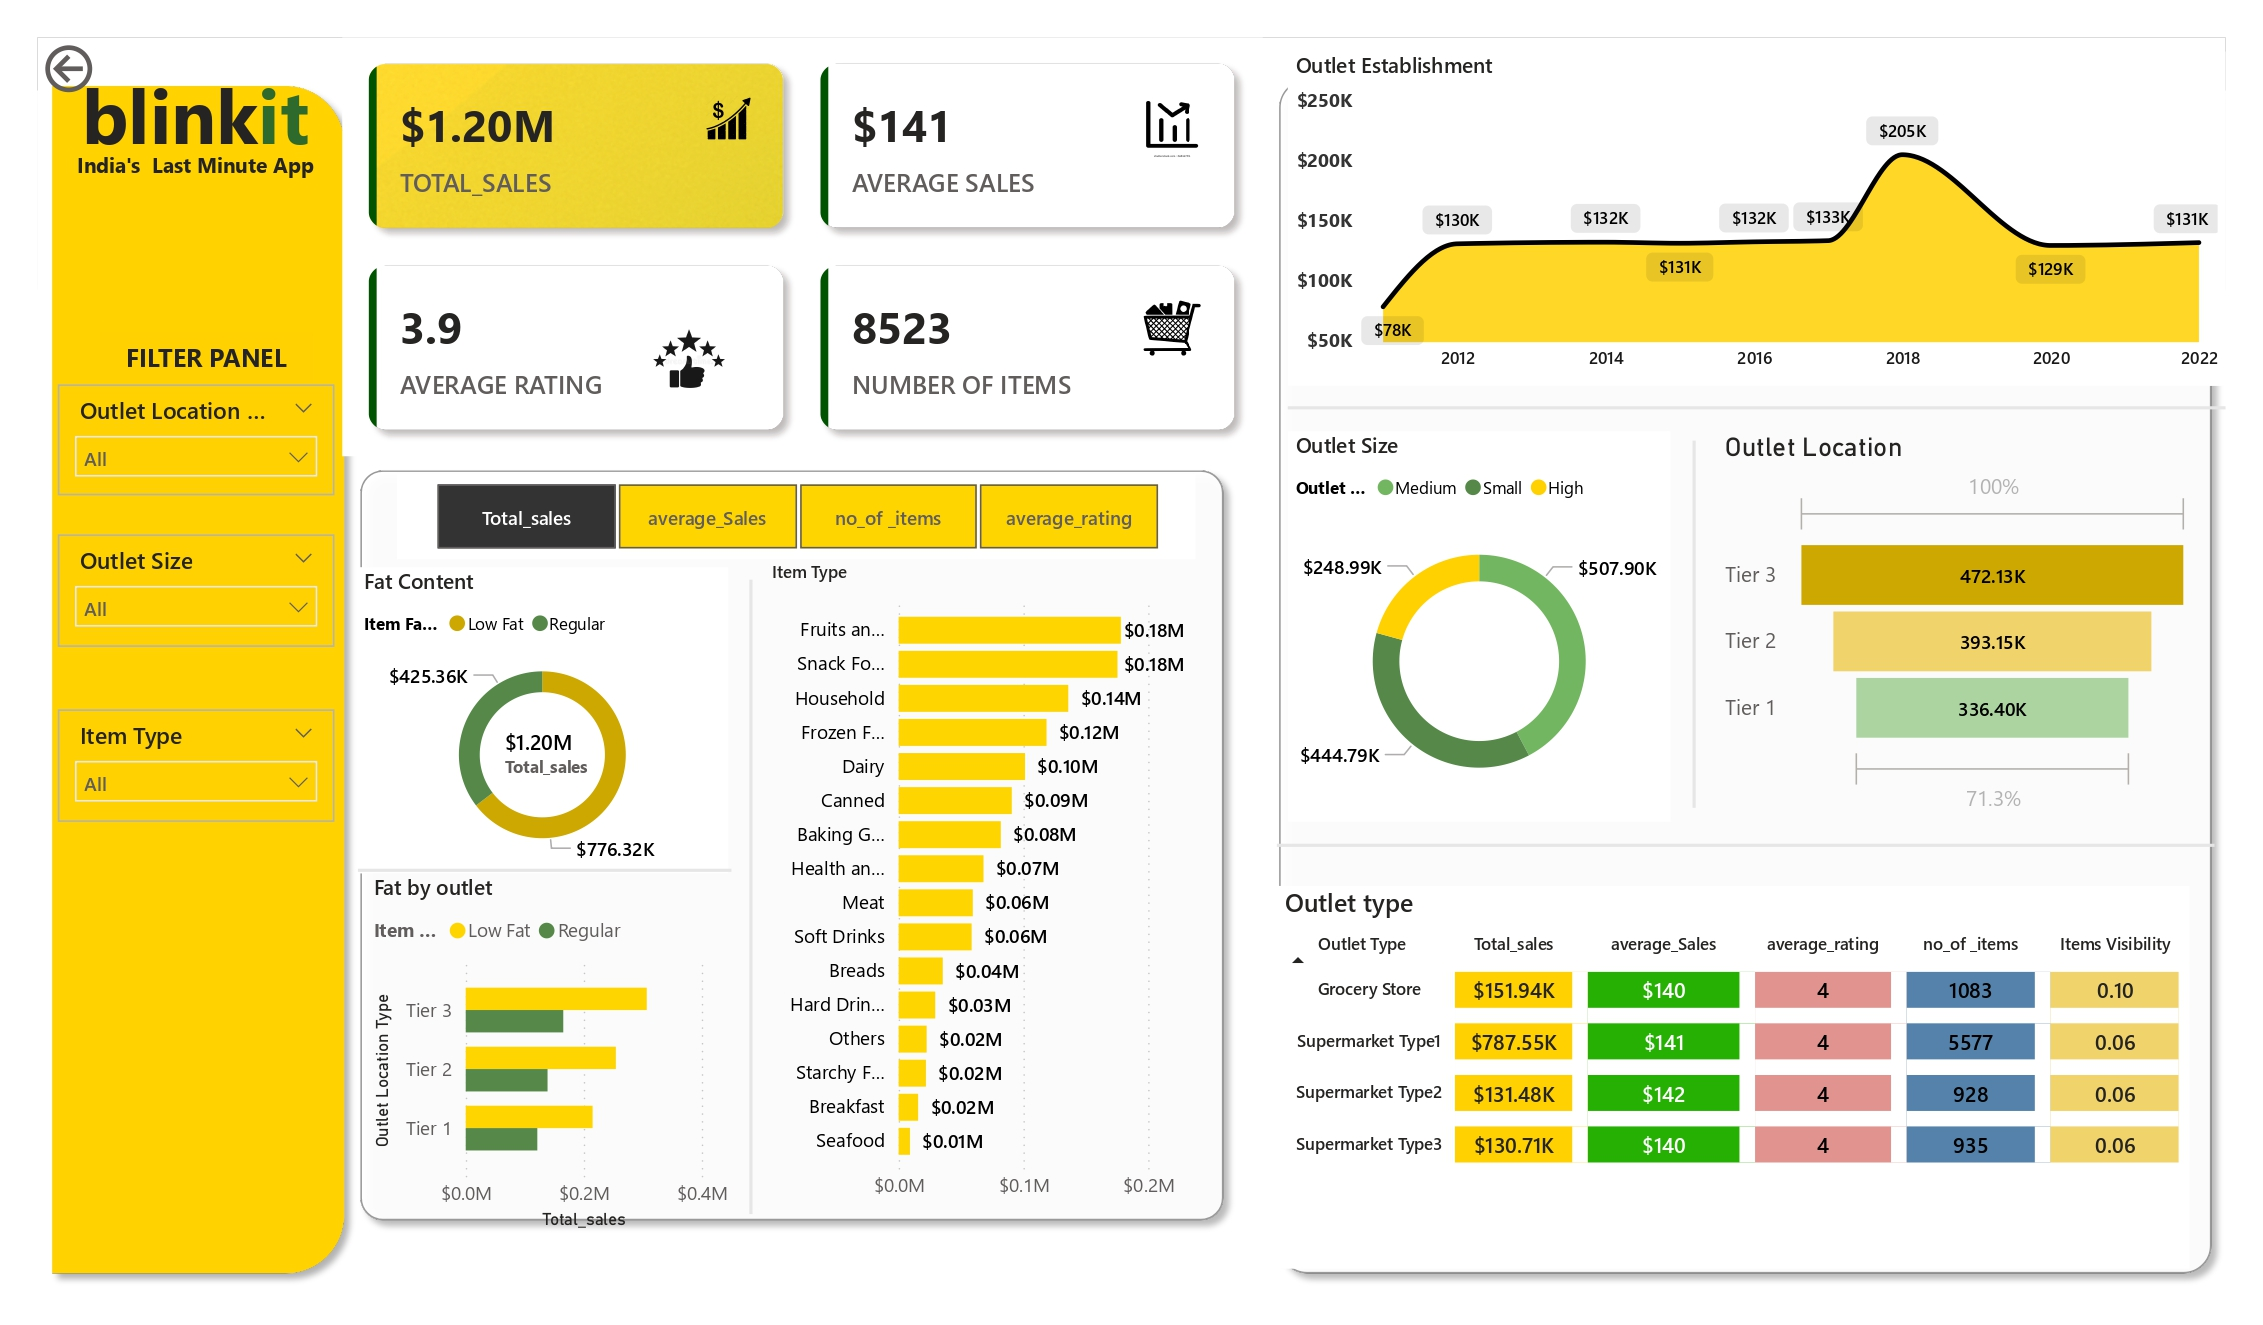

Layout of this report page (visuals, bound fields, positions):
{"tool":"powerbi","page":{"name":"Page 1","canvas":[1400,800],"ordinal":0},"visuals":[{"type":"shape","box":[0,21.7,205,778.3],"z":0},{"type":"textbox","box":[12.8,68.1,176.6,36.2],"z":1000},{"type":"textbox","box":[4.3,10.6,193.6,76.6],"z":2000},{"type":"cardVisual","fields":{"Data":["BlinkIT Grocery Data.Total_sales","BlinkIT Grocery Data.average_Sales","BlinkIT Grocery Data.average_rating","BlinkIT Grocery Data.no_of _items"]},"box":[195.5,0,588.6,268.2],"z":3000},{"type":"shape","box":[197.2,267.6,570.4,498.6],"z":4000},{"type":"donutChart","title":"Fat Content","fields":{"Y":["BlinkIT Grocery Data.Total_sales"],"Category":["BlinkIT Grocery Data.Item Fat Content"]},"box":[204.2,339.4,238,195.8],"z":5000},{"type":"slicer","fields":{"Values":["Metrics.Metrics"]},"box":[229.6,278.9,511.3,54.9],"z":6000},{"type":"cardVisual","fields":{"Data":["BlinkIT Grocery Data.Total_sales"]},"box":[281.7,425.4,94.4,57.7],"z":7000},{"type":"clusteredBarChart","title":"Fat by outlet","fields":{"Y":["BlinkIT Grocery Data.Total_sales"],"Category":["BlinkIT Grocery Data.Outlet Location Type"],"Series":["BlinkIT Grocery Data.Item Fat Content"]},"box":[210,535,236.7,231.7],"z":8000},{"type":"shape","box":[204.8,516.1,238.7,33.9],"z":9000},{"type":"shape","box":[443.5,346.8,25.8,406.5],"z":10000},{"type":"barChart","title":"Item Type","fields":{"Y":["BlinkIT Grocery Data.Total_sales"],"Category":["BlinkIT Grocery Data.Item Type"]},"box":[464.5,333.9,291.9,419.4],"z":11000},{"type":"shape","box":[785,18.3,615,781.7],"z":12000},{"type":"lineChart","title":"Outlet Establishment","fields":{"Category":["BlinkIT Grocery Data.Outlet Establishment Year"],"Y":["BlinkIT Grocery Data.Total_sales"]},"box":[800,9.1,600,213.6],"z":13000},{"type":"shape","box":[800,221.7,600,30],"z":14000},{"type":"donutChart","title":"Outlet Size","fields":{"Y":["BlinkIT Grocery Data.Total_sales"],"Category":["BlinkIT Grocery Data.Outlet Size"]},"box":[800,251.7,245,250],"z":15000},{"type":"shape","box":[1045,258.3,30,235],"z":16000},{"type":"funnel","title":"Outlet Location ","fields":{"Y":["Sum(BlinkIT Grocery Data.Sales)"],"Category":["BlinkIT Grocery Data.Outlet Location Type"]},"box":[1075,251.7,308.3,250],"z":17000},{"type":"shape","box":[793.3,501.7,600,30],"z":18000},{"type":"pivotTable","title":"Outlet type","fields":{"Rows":["BlinkIT Grocery Data.Outlet Type"],"Values":["BlinkIT Grocery Data.Total_sales","BlinkIT Grocery Data.average_Sales","BlinkIT Grocery Data.average_rating","BlinkIT Grocery Data.no_of _items","Avg(BlinkIT Grocery Data.Item Visibility)"]},"box":[793.3,543.3,583.3,245],"z":19000},{"type":"actionButton","box":[0,0,100,40],"z":20000},{"type":"slicer","fields":{"Values":["BlinkIT Grocery Data.Outlet Location Type"]},"box":[13.3,221.7,176.7,71.7],"z":21000},{"type":"slicer","fields":{"Values":["BlinkIT Grocery Data.Outlet Size"]},"box":[13.3,318.3,176.7,71.7],"z":22000},{"type":"slicer","fields":{"Values":["BlinkIT Grocery Data.Item Type"]},"box":[13.3,430,176.7,71.7],"z":23000},{"type":"textbox","box":[40.3,188.7,135.5,32.3],"z":24000}]}

Visuals, with their boxes on the page's 1400x800 design canvas (x1, y1, x2, y2). These are canvas units, not pixel positions in the 2263x1325 screenshot, which may show the page scaled, cropped or inside an application window:
shape: pyautogui.locateOnScreen(0, 22, 205, 800)
textbox: pyautogui.locateOnScreen(13, 68, 189, 104)
textbox: pyautogui.locateOnScreen(4, 11, 198, 87)
cardVisual - BlinkIT Grocery Data.Total_sales x BlinkIT Grocery Data.average_Sales: pyautogui.locateOnScreen(196, 0, 784, 268)
shape: pyautogui.locateOnScreen(197, 268, 768, 766)
"Fat Content" donutChart: pyautogui.locateOnScreen(204, 339, 442, 535)
slicer - Metrics.Metrics: pyautogui.locateOnScreen(230, 279, 741, 334)
cardVisual - BlinkIT Grocery Data.Total_sales: pyautogui.locateOnScreen(282, 425, 376, 483)
"Fat by outlet" clusteredBarChart: pyautogui.locateOnScreen(210, 535, 447, 767)
shape: pyautogui.locateOnScreen(205, 516, 444, 550)
shape: pyautogui.locateOnScreen(444, 347, 469, 753)
"Item Type" barChart: pyautogui.locateOnScreen(464, 334, 756, 753)
shape: pyautogui.locateOnScreen(785, 18, 1400, 800)
"Outlet Establishment" lineChart: pyautogui.locateOnScreen(800, 9, 1400, 223)
shape: pyautogui.locateOnScreen(800, 222, 1400, 252)
"Outlet Size" donutChart: pyautogui.locateOnScreen(800, 252, 1045, 502)
shape: pyautogui.locateOnScreen(1045, 258, 1075, 493)
"Outlet Location " funnel: pyautogui.locateOnScreen(1075, 252, 1383, 502)
shape: pyautogui.locateOnScreen(793, 502, 1393, 532)
"Outlet type" pivotTable: pyautogui.locateOnScreen(793, 543, 1377, 788)
actionButton: pyautogui.locateOnScreen(0, 0, 100, 40)
slicer - BlinkIT Grocery Data.Outlet Location Type: pyautogui.locateOnScreen(13, 222, 190, 293)
slicer - BlinkIT Grocery Data.Outlet Size: pyautogui.locateOnScreen(13, 318, 190, 390)
slicer - BlinkIT Grocery Data.Item Type: pyautogui.locateOnScreen(13, 430, 190, 502)
textbox: pyautogui.locateOnScreen(40, 189, 176, 221)
